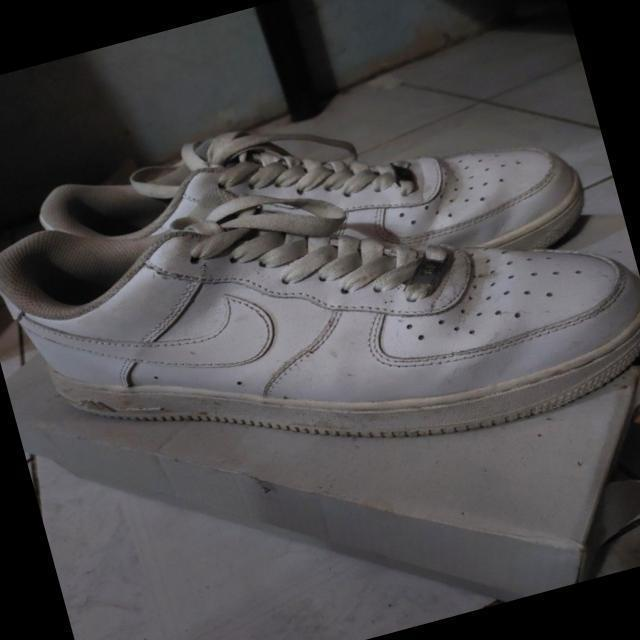nike original air force: (0, 79, 640, 545), (36, 52, 597, 372)
